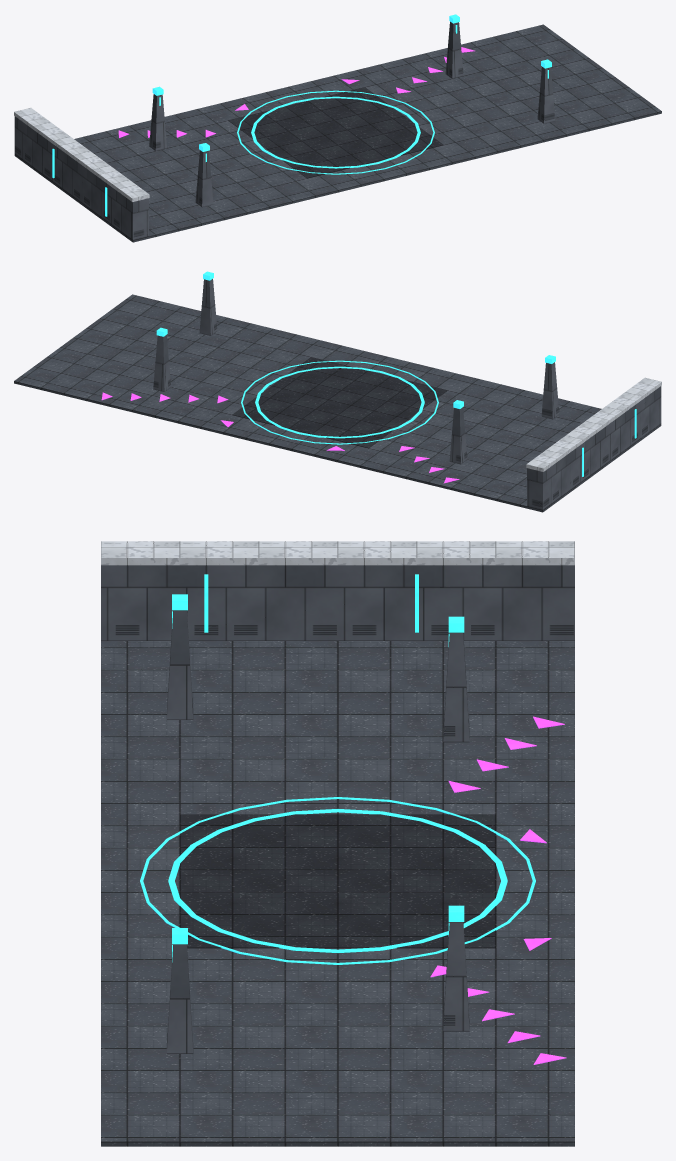
The model's file is env_court_w.glb.
3 views of the same model, one above another, from view 1: azimuth 30°, elevation 25°; view 2: azimuth 150°, elevation 25°; view 3: azimuth 270°, elevation 25° (orthographic). The views are drawn at different scales.
Parts seen in each view (by area): view 1: env_court_w; view 2: env_court_w; view 3: env_court_w.
Part boxes in pixels (x1,y1,x2,y2): env_court_w: (14,14,661,242); env_court_w: (14,271,661,512); env_court_w: (101,541,574,1146).
Size of the model in its own units: 46.5 by 5.1 by 18.
6 materials, 6 textured.
